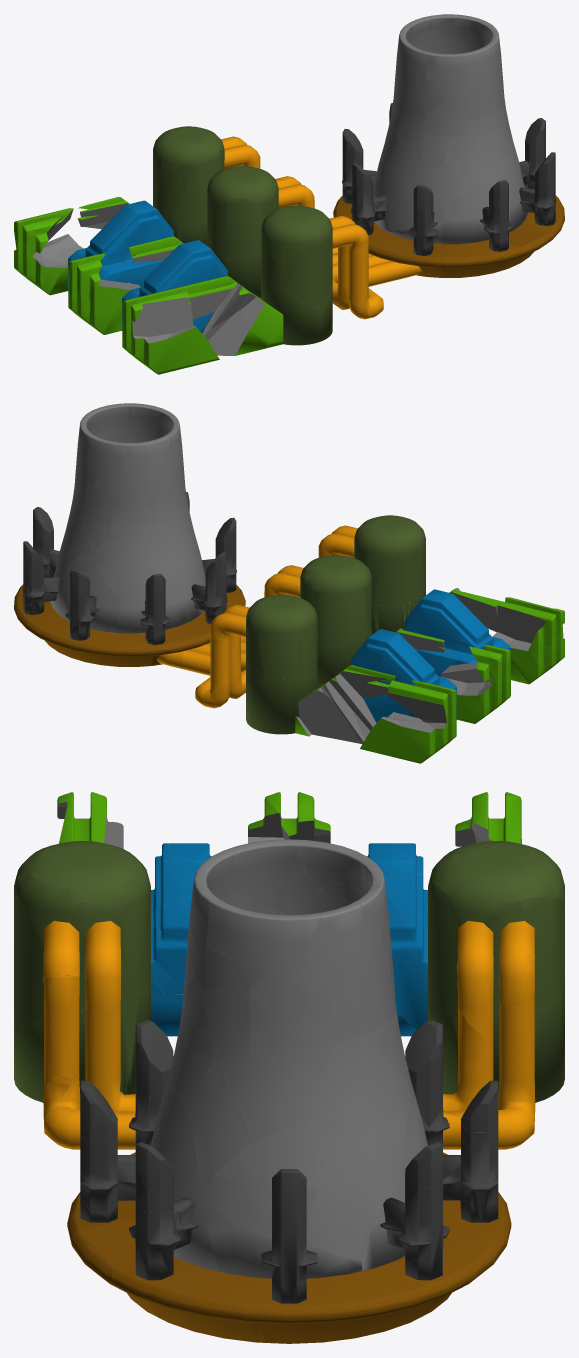
File: PowerPlant Broken (Set 3).fbx
The picture shows the model from 3 angles, top to bottom: view 1: azimuth 30°, elevation 25°; view 2: azimuth 150°, elevation 25°; view 3: azimuth 270°, elevation 25°; orthographic projection. The views are drawn at different scales.
Parts seen in each view (by area): view 1: Nuclear Barrel Ground.007_cell.007, Nuclear Barrel Ground.026_cell.012, Nuclear Barrel Ground.008_cell.012, Nuclear Barrel Ground.026_cell.025, Nuclear Barrel Ground.008_cell.016, Nuclear Barrel Ground.026_cell.006, Nuclear Barrel Ground.006_cell.015, Nuclear Barrel Ground.005_cell.064, Nuclear Barrel Ground.005_cell.015, Nuclear Barrel Ground.005_cell.021, Nuclear Barrel Ground.005_cell.065, Nuclear Barrel Ground.026_cell.016 (+64 smaller); view 2: Nuclear Barrel Ground.007_cell.005, Nuclear Barrel Ground.005_cell.008, Nuclear Barrel Ground.006_cell.007, Nuclear Barrel Ground.006_cell.004, Nuclear Barrel Ground.008_cell.006, Nuclear Barrel Ground.004_cell.004, Nuclear Barrel Ground.005_cell.044, Nuclear Barrel Ground.005_cell.041, Nuclear Barrel Ground.025_cell.038, Nuclear Barrel Ground.004_cell.018, Nuclear Barrel Ground.016_cell.003, Nuclear Barrel Ground.025_cell.046 (+62 smaller); view 3: Nuclear Barrel Ground.005_cell.053, Nuclear Barrel Ground.004_cell.005, Nuclear Barrel Ground.005_cell.033, Nuclear Barrel Ground.005_cell.035, Nuclear Barrel Ground.005_cell.013, Nuclear Barrel Ground.004_cell.016, Nuclear Barrel Ground.005_cell.060, Nuclear Barrel Ground.016_cell.003, Nuclear Barrel Ground.004_cell.002, Nuclear Barrel Ground.006_cell.008, Nuclear Barrel Ground.005_cell.019, Nuclear Barrel Ground.005_cell.056 (+90 smaller).
Boxes of the visible parts, left/top/right/bottom form: Nuclear Barrel Ground.007_cell.007: left=212, top=197, right=273, bottom=259; Nuclear Barrel Ground.026_cell.012: left=208, top=293, right=283, bottom=355; Nuclear Barrel Ground.008_cell.012: left=285, top=238, right=332, bottom=308; Nuclear Barrel Ground.026_cell.025: left=131, top=291, right=193, bottom=336; Nuclear Barrel Ground.008_cell.016: left=261, top=281, right=320, bottom=345; Nuclear Barrel Ground.026_cell.006: left=147, top=325, right=219, bottom=374; Nuclear Barrel Ground.006_cell.015: left=171, top=150, right=224, bottom=225; Nuclear Barrel Ground.005_cell.064: left=374, top=163, right=413, bottom=231; Nuclear Barrel Ground.005_cell.015: left=421, top=163, right=466, bottom=226; Nuclear Barrel Ground.005_cell.021: left=434, top=194, right=512, bottom=244; Nuclear Barrel Ground.005_cell.065: left=389, top=138, right=427, bottom=193; Nuclear Barrel Ground.026_cell.016: left=179, top=276, right=232, bottom=319; Nuclear Barrel Ground.007_cell.005: left=319, top=573, right=367, bottom=646; Nuclear Barrel Ground.005_cell.008: left=91, top=534, right=156, bottom=599; Nuclear Barrel Ground.006_cell.007: left=255, top=674, right=317, bottom=734; Nuclear Barrel Ground.006_cell.004: left=256, top=614, right=298, bottom=679; Nuclear Barrel Ground.008_cell.006: left=371, top=547, right=425, bottom=605; Nuclear Barrel Ground.004_cell.004: left=28, top=615, right=106, bottom=665; Nuclear Barrel Ground.005_cell.044: left=110, top=580, right=188, bottom=633; Nuclear Barrel Ground.005_cell.041: left=115, top=461, right=169, bottom=502; Nuclear Barrel Ground.025_cell.038: left=360, top=716, right=428, bottom=763; Nuclear Barrel Ground.004_cell.018: left=99, top=631, right=157, bottom=666; Nuclear Barrel Ground.016_cell.003: left=195, top=637, right=230, bottom=708; Nuclear Barrel Ground.025_cell.046: left=388, top=680, right=447, bottom=723; Nuclear Barrel Ground.005_cell.053: left=200, top=1115, right=328, bottom=1237; Nuclear Barrel Ground.004_cell.005: left=328, top=1256, right=477, bottom=1341; Nuclear Barrel Ground.005_cell.033: left=247, top=971, right=337, bottom=1066; Nuclear Barrel Ground.005_cell.035: left=322, top=1033, right=411, bottom=1127; Nuclear Barrel Ground.005_cell.013: left=218, top=1056, right=323, bottom=1140; Nuclear Barrel Ground.004_cell.016: left=146, top=1268, right=265, bottom=1342; Nuclear Barrel Ground.005_cell.060: left=306, top=1120, right=369, bottom=1259; Nuclear Barrel Ground.016_cell.003: left=443, top=988, right=535, bottom=1149; Nuclear Barrel Ground.004_cell.002: left=242, top=1277, right=343, bottom=1343; Nuclear Barrel Ground.006_cell.008: left=489, top=897, right=564, bottom=1012; Nuclear Barrel Ground.005_cell.019: left=200, top=1193, right=362, bottom=1278; Nuclear Barrel Ground.005_cell.056: left=191, top=1060, right=253, bottom=1185.
Size of the model in its own units: 3482 by 1437 by 1828.
